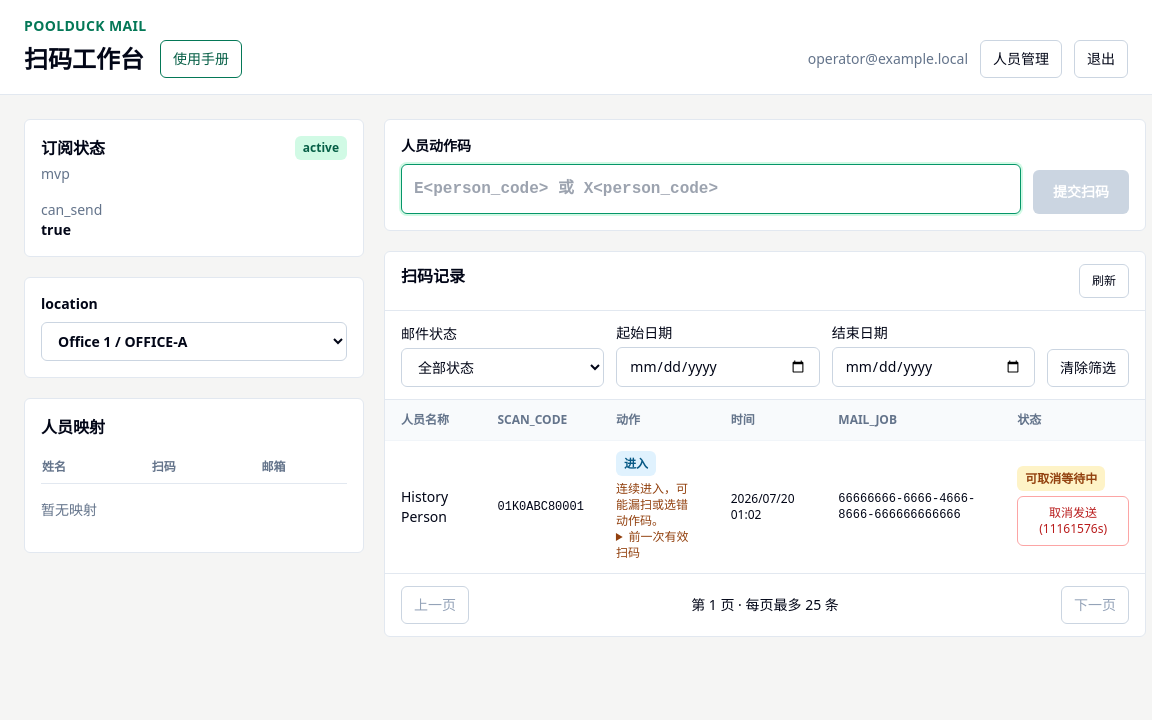
Scenario: history workspace › clears the warning after cancellation even when reloading the page fails
The image size is (1152, 720).
Expected: the text "连续进入，可能漏扫或选错动作码。" is shown, [616,481,699,529]
Click the button with test id "scan-cancel" at point(1073, 521), box [1017,496,1129,546]
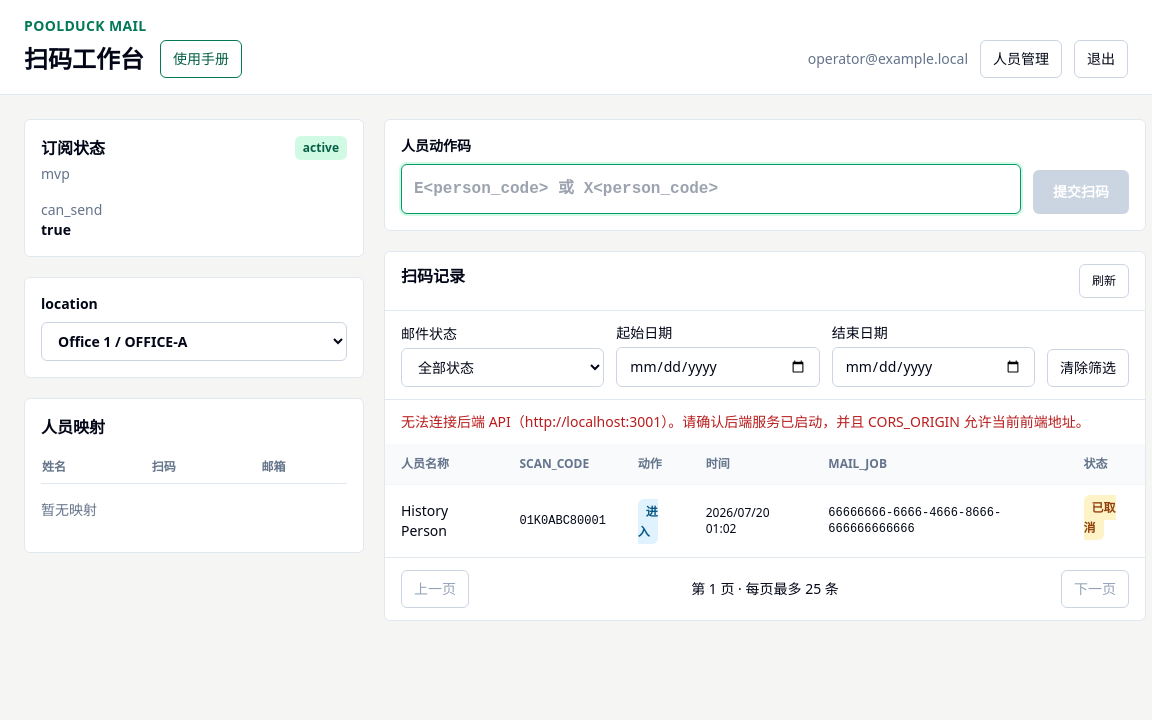
Expected: the message shows "无法连接后端 API", [401,412,1090,431]
Expected: the text with test id "mail-status" reads "已取消", [1084,499,1116,536]
Expected: the heading "前一次有效扫码" is gone
